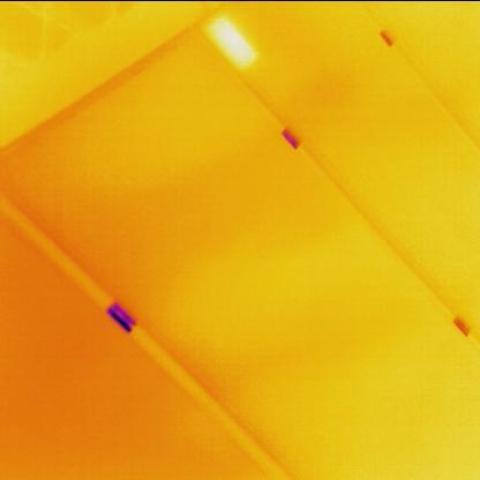fault: (207, 12, 263, 65)
